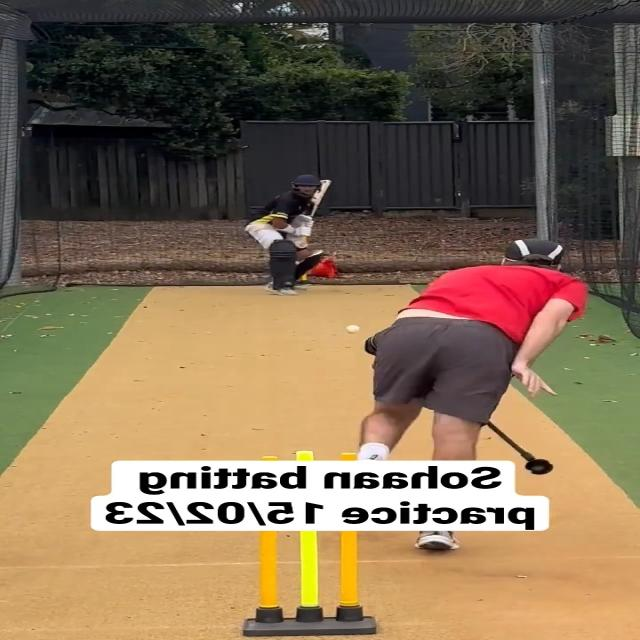ball: (343, 325, 362, 335)
stump: (244, 532, 373, 636)
